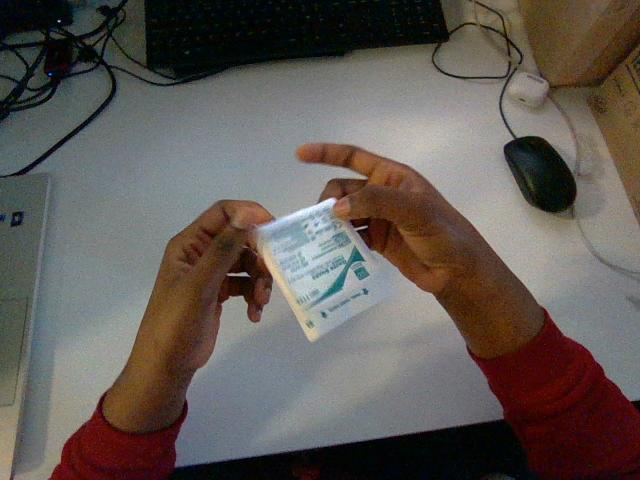gauze: (257, 198, 389, 341)
